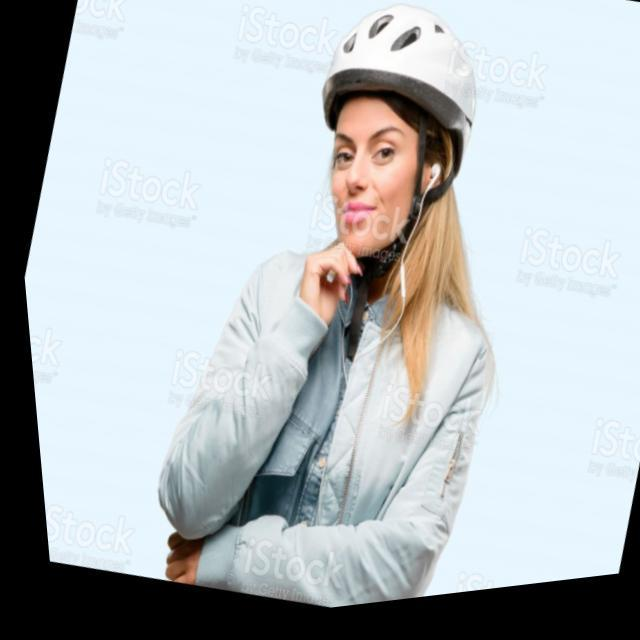Helmet: (321, 0, 477, 269)
